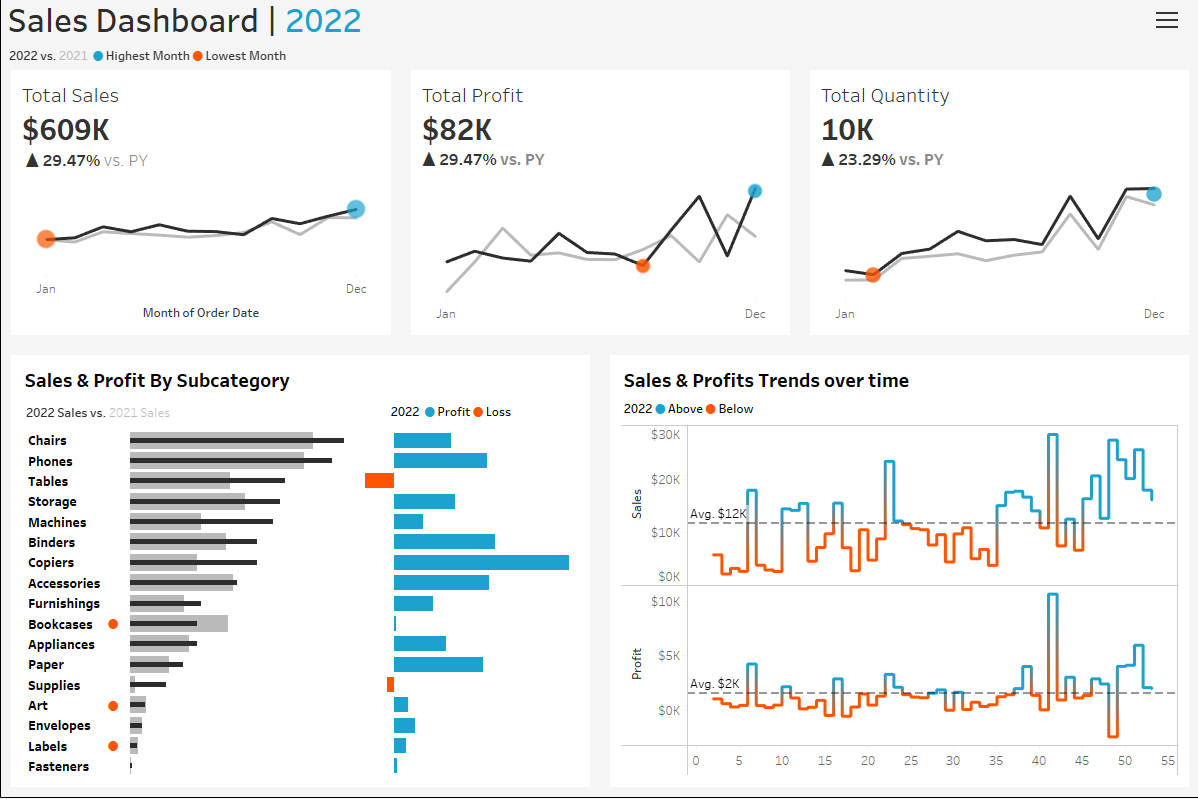

This screenshot's page, from the dashboard's own definition file:
{"tool":"tableau","page":{"name":"Sales Dashboard","canvas":[1200,800],"ordinal":0},"visuals":[{"type":"text","box":[1,1,1198,41]},{"type":"text","box":[993,10,195,46]},{"type":"dashboard-object","box":[1155,10,24,24]},{"type":"worksheet","title":"Legend KPI","mark":"Automatic","box":[1,42,1198,30]},{"type":"parameter","param":"[Parameters].[Parameter 1]","box":[993,56,195,52]},{"type":"worksheet","title":"KPI Sales","mark":"Automatic","rows":["Calculation_725642497519120388"],"cols":["Order Date"],"box":[1,72,400,275]},{"type":"worksheet","title":"KPI Profit","mark":"Line","rows":["Calculation_725642497813118991"],"cols":["Order Date"],"box":[401,72,399,275]},{"type":"worksheet","title":"KPI Quantity","mark":"Automatic","rows":["Calculation_725642497822703640"],"cols":["Order Date"],"box":[800,72,399,275]},{"type":"blank","box":[993,108,195,57]},{"type":"text","box":[993,165,195,29]},{"type":"filter","title":"KPI Sales","param":"[federated.05s0ugz1h0lics1183xce0s21evp].[none:Category:nk]","box":[993,194,195,52]},{"type":"filter","title":"KPI Sales","param":"[federated.05s0ugz1h0lics1183xce0s21evp].[none:Sub-Category:nk]","box":[993,246,195,52]},{"type":"blank","box":[993,298,195,60]},{"type":"text","box":[993,358,195,29]},{"type":"text","box":[18,364,565,35]},{"type":"text","box":[617,364,565,34]},{"type":"filter","title":"KPI Sales","param":"[federated.05s0ugz1h0lics1183xce0s21evp].[none:Region:nk]","box":[993,387,195,52]},{"type":"text","box":[617,398,565,25]},{"type":"worksheet","title":"Legend Subcategory","mark":"Automatic","box":[18,399,366,29]},{"type":"text","box":[384,399,199,29]},{"type":"worksheet","title":"Weekly Trends","mark":"Automatic","rows":["Calculation_725642497513635840","Calculation_725642497807491082"],"cols":["Order Date"],"box":[617,423,565,359]},{"type":"worksheet","title":"Subcategory Comparison","mark":"Bar","rows":["Sub-Category","Calculation_725642497841434651"],"cols":["2023 Sales (copy)_725642497514508289","Calculation_725642497513635840","Calculation_725642497807491082"],"box":[18,428,565,354]},{"type":"filter","title":"KPI Sales","param":"[federated.05s0ugz1h0lics1183xce0s21evp].[none:State:nk]","box":[993,439,195,52]},{"type":"filter","title":"KPI Sales","param":"[federated.05s0ugz1h0lics1183xce0s21evp].[none:City:nk]","box":[993,491,195,52]}]}

Visuals, with their boxes in screenshot pixels (x1, y1, x2, y2), scaled from the page's 1200x800 canvas onto the 1198x799 screenshot:
text: crop(1, 1, 1197, 42)
text: crop(991, 10, 1186, 56)
dashboard-object: crop(1153, 10, 1177, 34)
"Legend KPI" worksheet: crop(1, 42, 1197, 72)
parameter: crop(991, 56, 1186, 108)
"KPI Sales" worksheet: crop(1, 72, 400, 347)
"KPI Profit" worksheet (Line marks): crop(400, 72, 799, 347)
"KPI Quantity" worksheet: crop(799, 72, 1197, 347)
blank: crop(991, 108, 1186, 165)
text: crop(991, 165, 1186, 194)
"KPI Sales" filter: crop(991, 194, 1186, 246)
"KPI Sales" filter: crop(991, 246, 1186, 298)
blank: crop(991, 298, 1186, 358)
text: crop(991, 358, 1186, 387)
text: crop(18, 364, 582, 399)
text: crop(616, 364, 1180, 398)
"KPI Sales" filter: crop(991, 387, 1186, 438)
text: crop(616, 398, 1180, 422)
"Legend Subcategory" worksheet: crop(18, 399, 383, 427)
text: crop(383, 399, 582, 427)
"Weekly Trends" worksheet: crop(616, 422, 1180, 781)
"Subcategory Comparison" worksheet (Bar marks): crop(18, 427, 582, 781)
"KPI Sales" filter: crop(991, 438, 1186, 490)
"KPI Sales" filter: crop(991, 490, 1186, 542)
